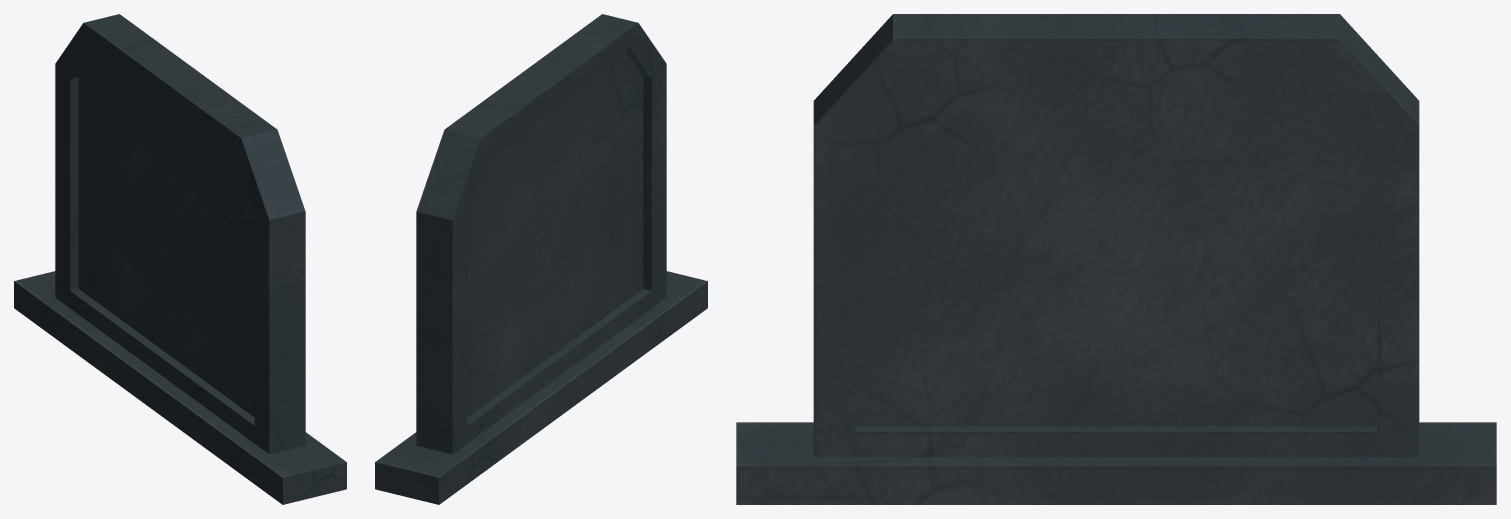
Rendered from Gravestone10_Model.fbx.
3 renders of one model, left to right at view 1: azimuth 30°, elevation 25°; view 2: azimuth 150°, elevation 25°; view 3: azimuth 270°, elevation 25°, orthographic. The views are drawn at different scales.
Visible parts, largest first — view 1: Gravestone10; view 2: Gravestone10; view 3: Gravestone10.
Part boxes in pixels (x1,y1,x2,y2): Gravestone10: [14, 14, 346, 504]; Gravestone10: [375, 14, 707, 504]; Gravestone10: [736, 14, 1496, 504].
Size of the model in its own units: 8.85 by 42.55 by 64.26.
